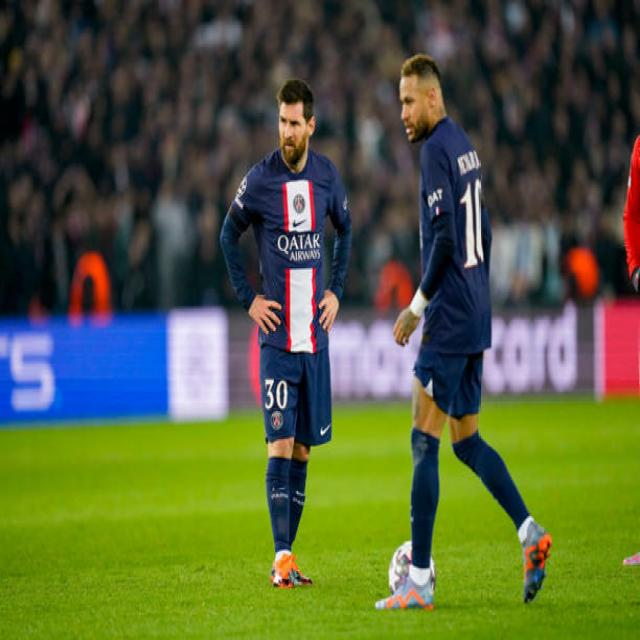neymar: (395, 55, 451, 140)
